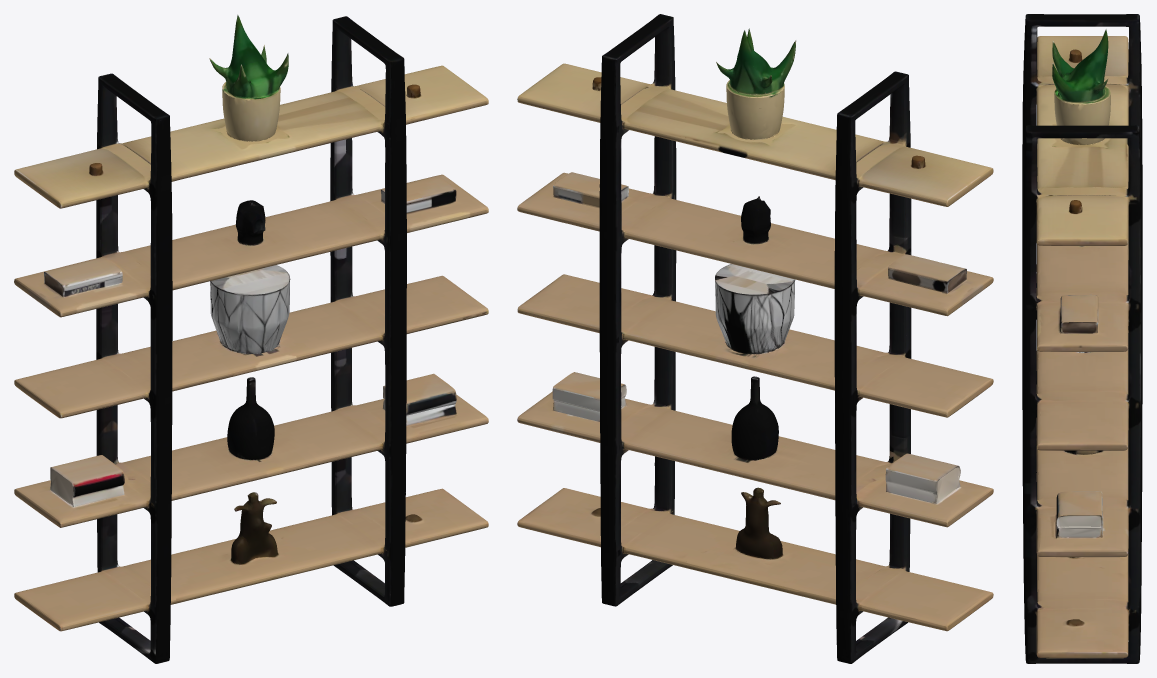
Rendered from estante-montecarlo.glb.
3 renders of one model, left to right at view 1: azimuth 30°, elevation 25°; view 2: azimuth 150°, elevation 25°; view 3: azimuth 270°, elevation 25°, orthographic. The views are drawn at different scales.
Parts seen in each view (by area): view 1: model; view 2: model; view 3: model.
Boxes of the visible parts, box(x1,y1,x2,y2) form: model: box(14, 14, 488, 663); model: box(517, 14, 993, 663); model: box(1022, 14, 1142, 663).
Size of the model in its own units: 1.44 by 1.9 by 0.3588.
Materials: 1 (1 with a texture image).
